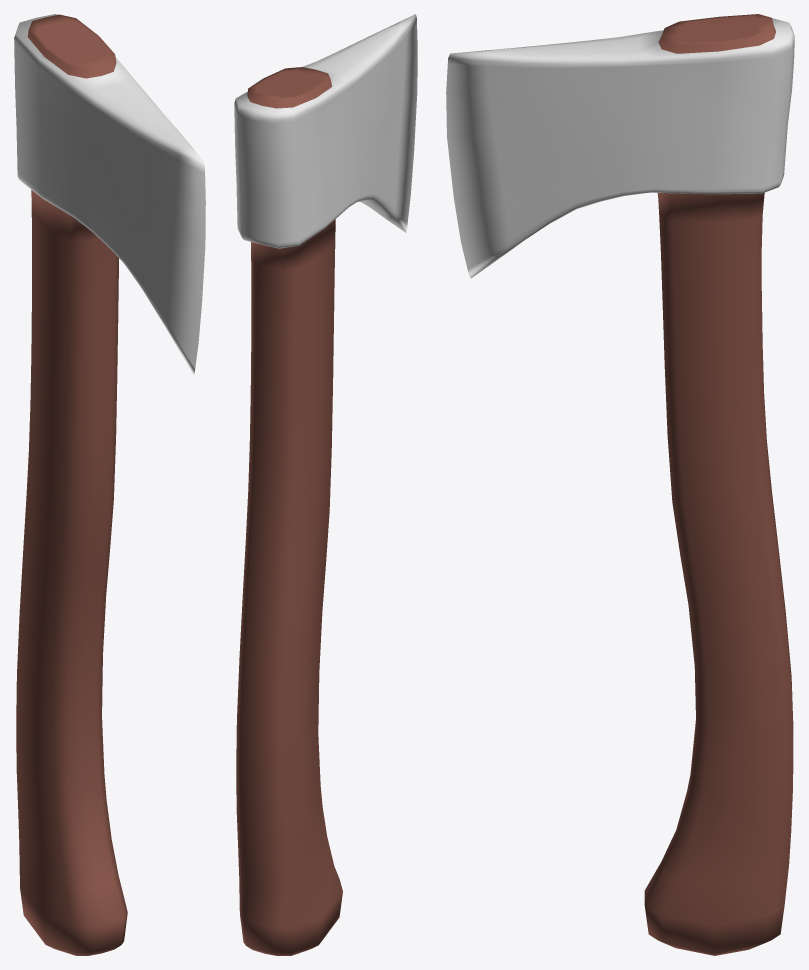
The model's file is Axe.fbx.
The picture shows the model from 3 angles, left to right: view 1: azimuth 30°, elevation 25°; view 2: azimuth 150°, elevation 25°; view 3: azimuth 270°, elevation 25°; orthographic projection. The views are drawn at different scales.
Parts seen in each view (by area): view 1: Axe; view 2: Axe; view 3: Axe.
Part boxes in pixels (x1=…): Axe: x1=14, y1=14, x2=205, y2=955; Axe: x1=234, y1=14, x2=417, y2=955; Axe: x1=446, y1=14, x2=794, y2=955.
Bounding box in the file's own units: 5.14 × 65.85 × 22.5.
